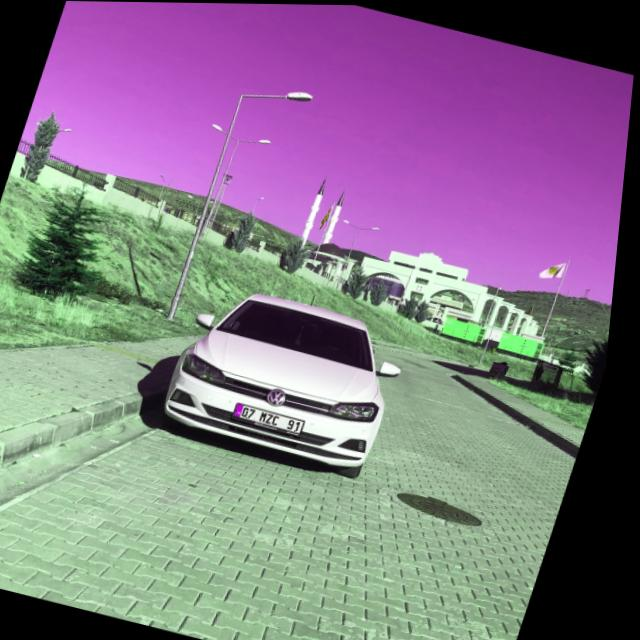license_plate: (239, 403, 314, 434)
